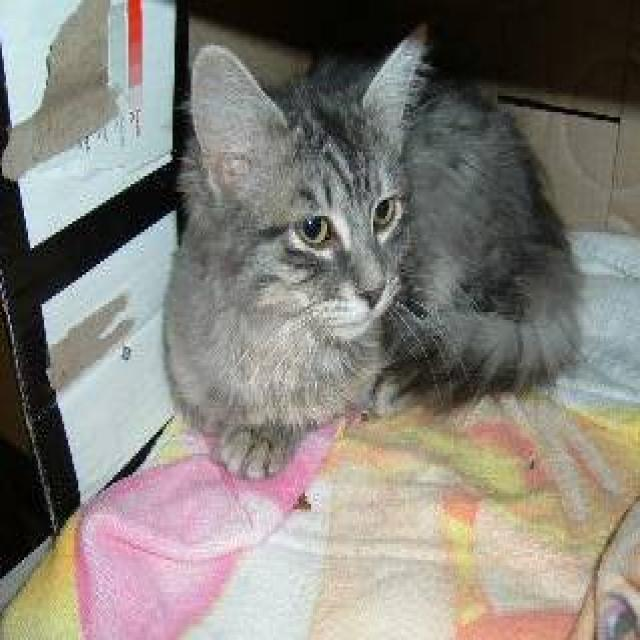cat: (133, 10, 606, 500)
